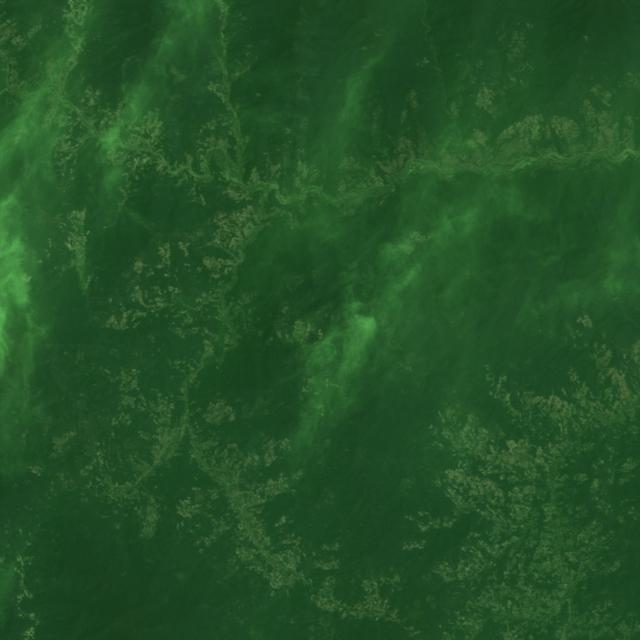landslides: (182, 16, 224, 28), (372, 2, 407, 14), (196, 88, 212, 96), (632, 184, 640, 198)
